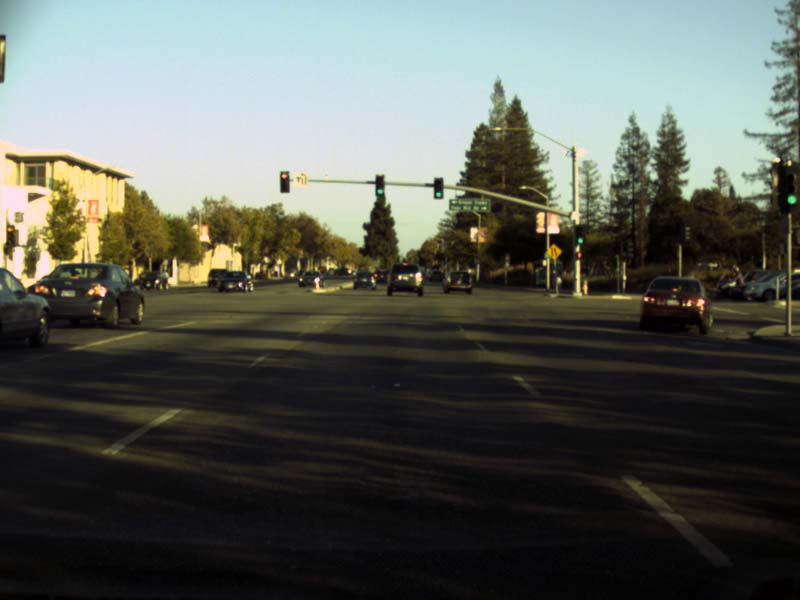Green: (782, 171, 797, 205), (375, 174, 384, 195), (575, 225, 584, 244), (434, 177, 442, 198)
Red: (280, 171, 289, 192), (6, 225, 14, 245)
